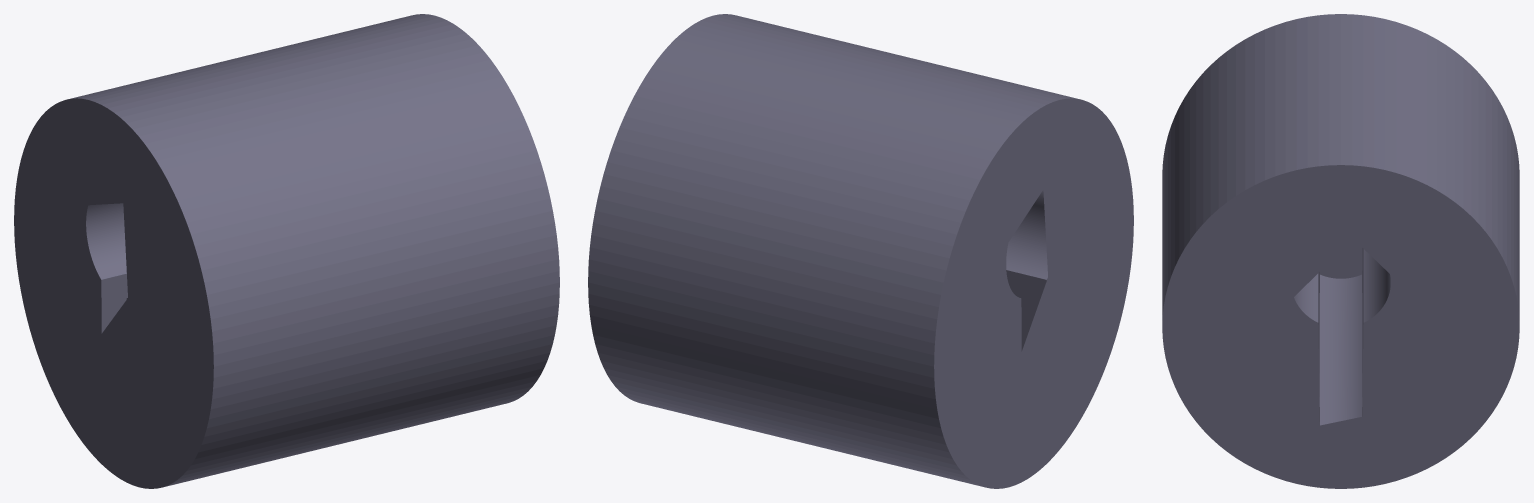
Rendered from lock.fbx.
3 views of the same model, side by side, from view 1: azimuth 30°, elevation 25°; view 2: azimuth 150°, elevation 25°; view 3: azimuth 270°, elevation 25° (orthographic). The views are drawn at different scales.
Visible parts, largest first — view 1: Cylinder; view 2: Cylinder; view 3: Cylinder.
Part boxes in pixels (bbox=[...]): Cylinder: bbox=[14, 14, 559, 488]; Cylinder: bbox=[588, 14, 1133, 488]; Cylinder: bbox=[1162, 14, 1519, 488].
Size of the model in its own units: 200 by 200 by 200.
